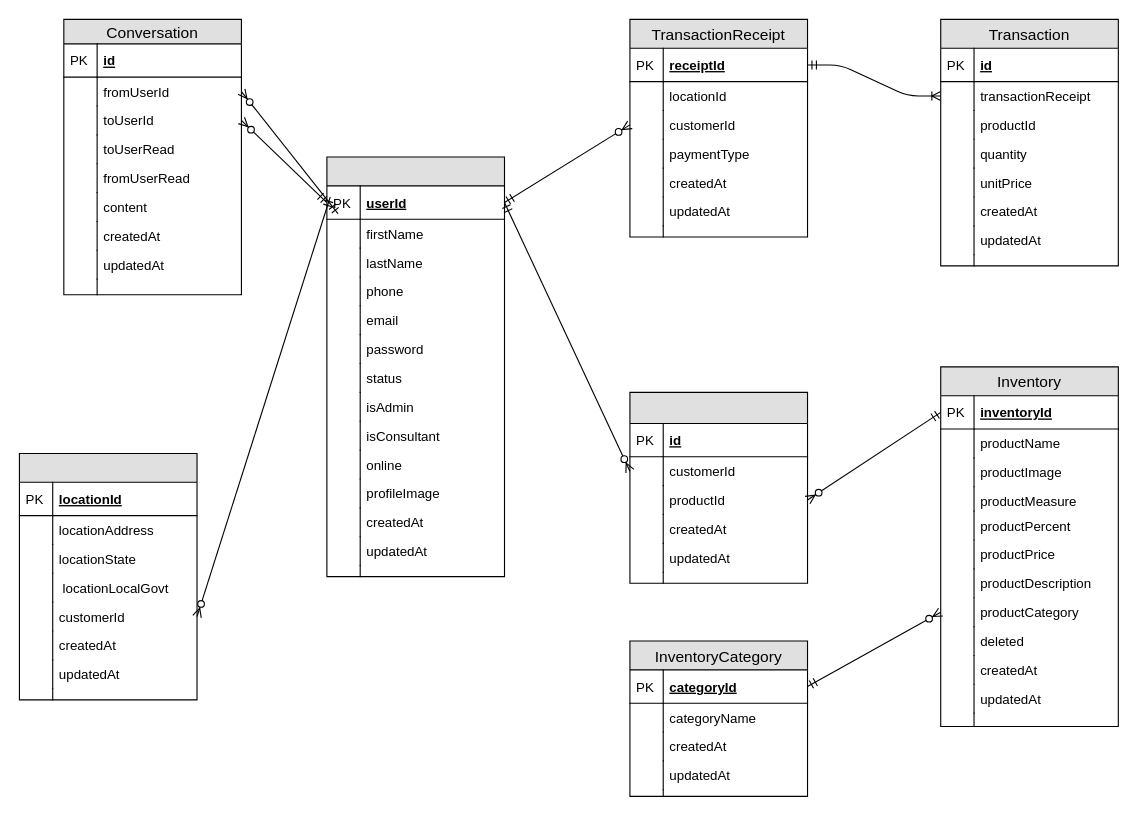
The diagram is 1138 pixels wide and 816 high, and some of its shapes have lost their labels. Here are the shapes that lost their labels. From the top down, the box of each, then its label:
(326, 156, 504, 577): UsersInformation
(629, 391, 808, 583): WishList
(18, 452, 197, 700): DeliveryLocation
